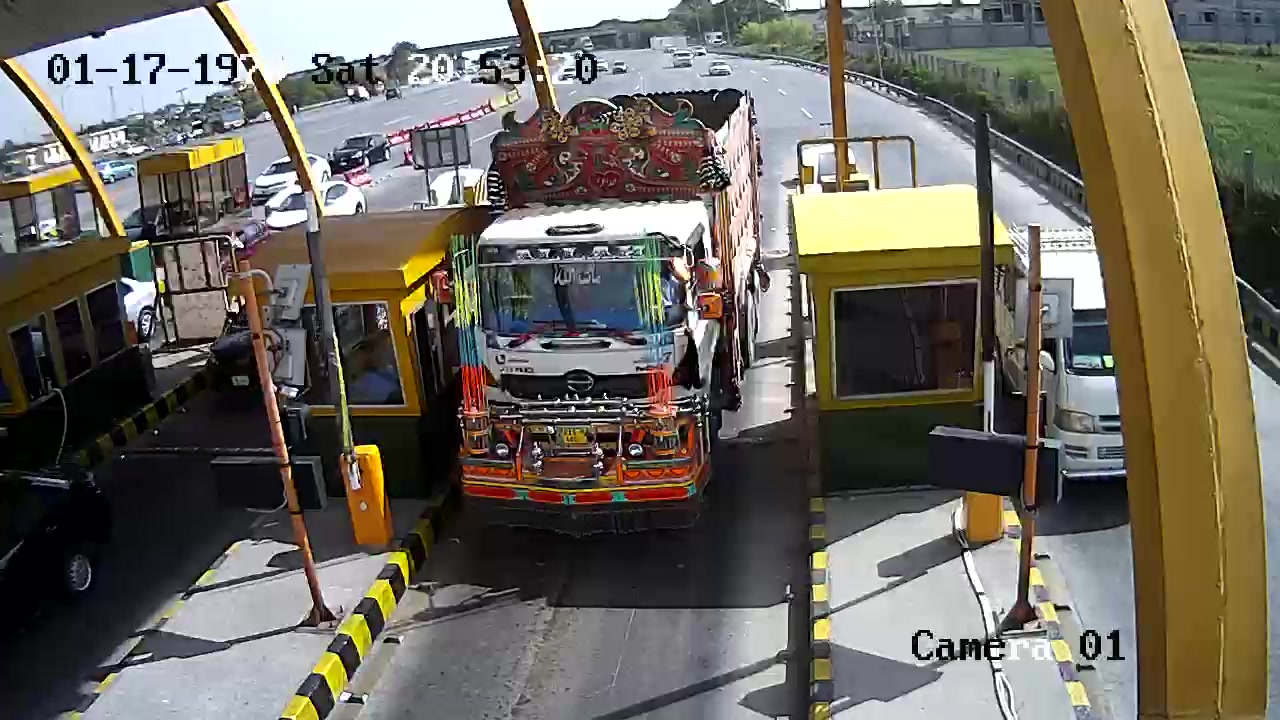F5: (450, 81, 773, 538)
